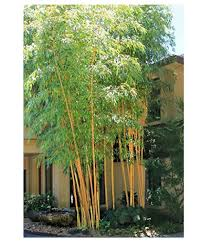bamboo: (25, 6, 149, 166), (59, 28, 108, 225), (119, 10, 146, 203)
